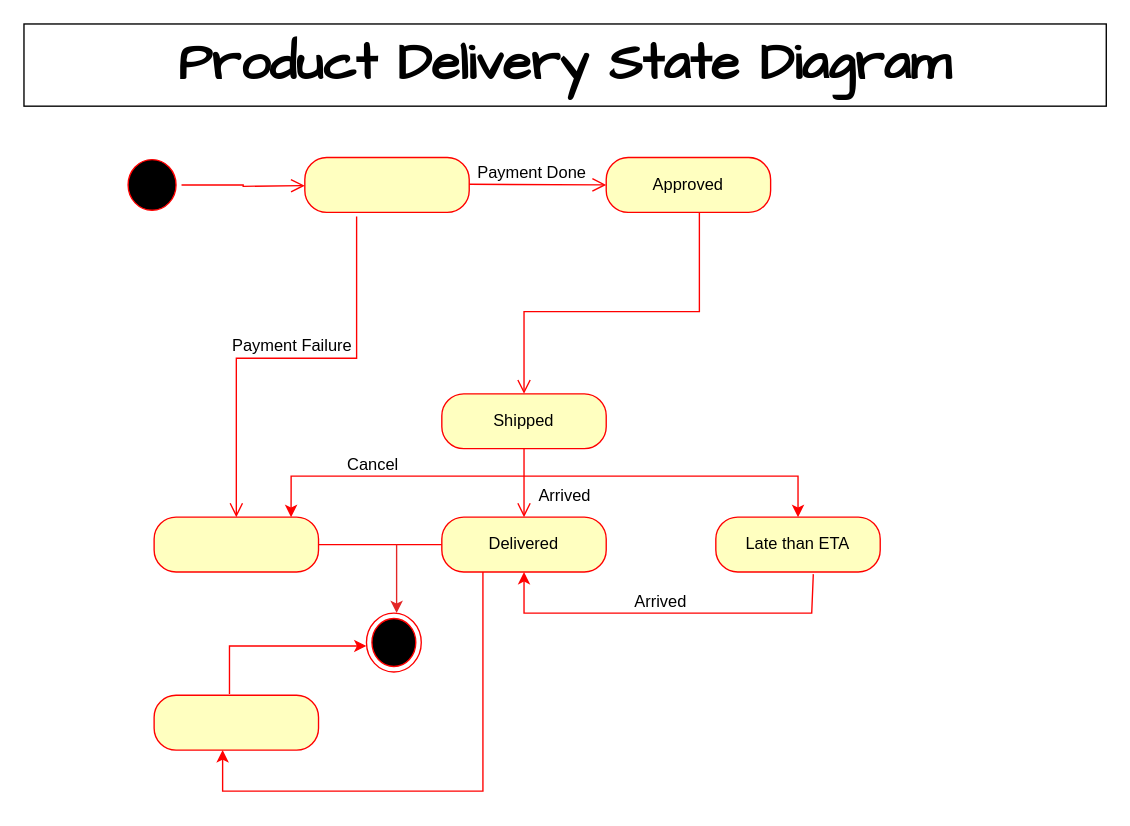
This 1130x826 diagram has some shape labels left out. The centre of each missing label's shape, as x and y in pixels:
Cancelled: the point at 236,544
PENDING: the point at 386,184
Returned: the point at 236,722
